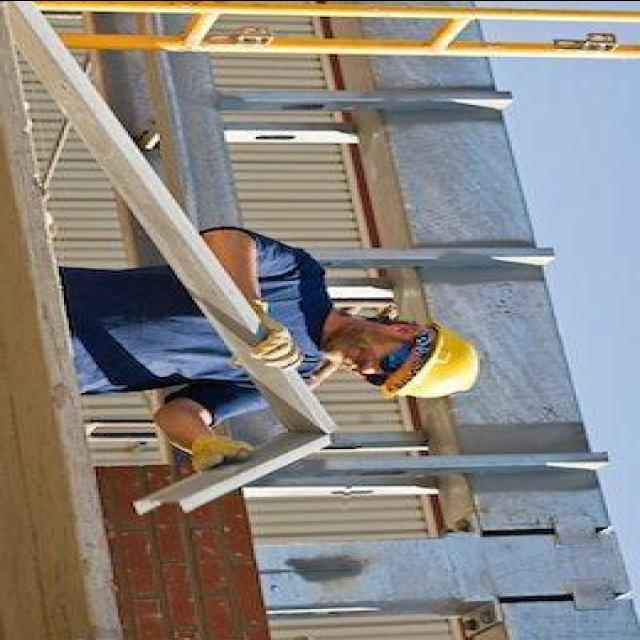helmet: (388, 316, 492, 411)
